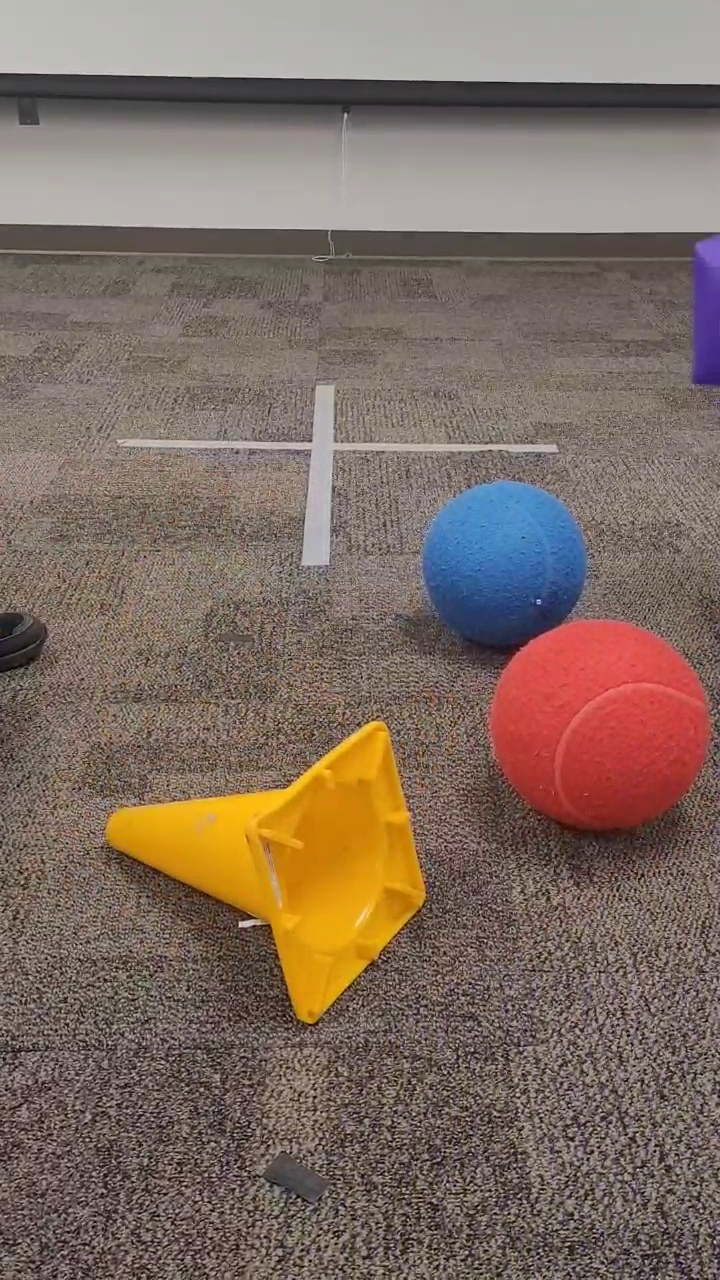ball: (485, 614, 713, 837), (419, 478, 590, 649)
cone: (99, 711, 431, 1030)
cube: (688, 227, 718, 382)
foot: (1, 604, 53, 680)
